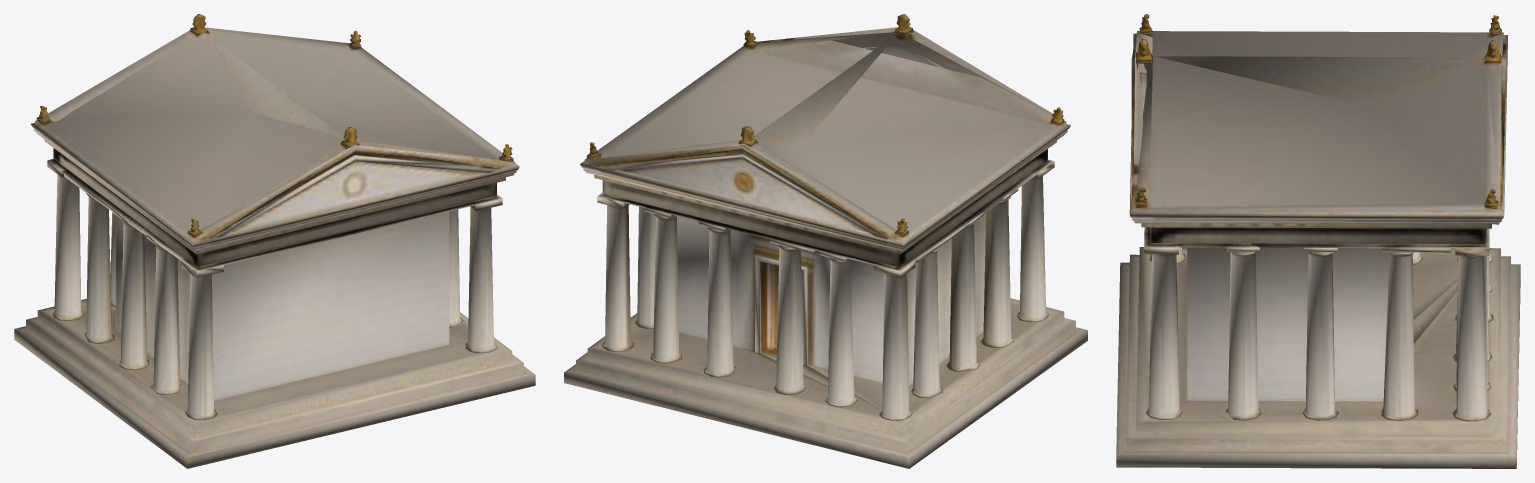
File: greek_temple.glb
The picture shows the model from 3 angles, left to right: view 1: azimuth 30°, elevation 25°; view 2: azimuth 150°, elevation 25°; view 3: azimuth 270°, elevation 25°; orthographic projection. The views are drawn at different scales.
Size of the model in its own units: 10.02 by 7.98 by 8.83.
Materials: 1 (1 with a texture image).
